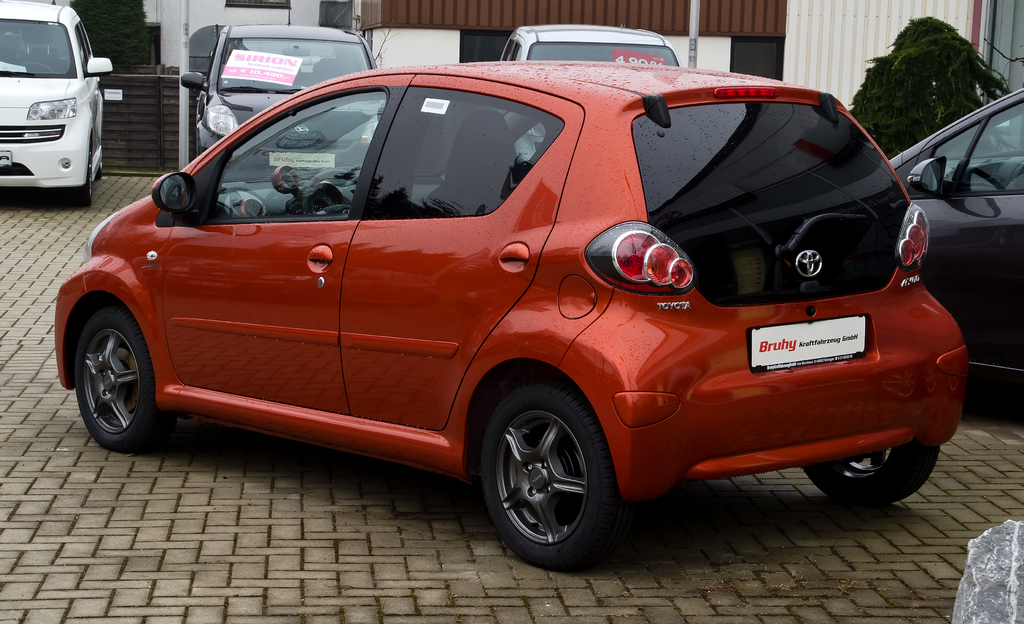cars: (39, 45, 917, 545), (892, 88, 1023, 395), (181, 23, 377, 155), (0, 0, 115, 207), (502, 21, 685, 69)
